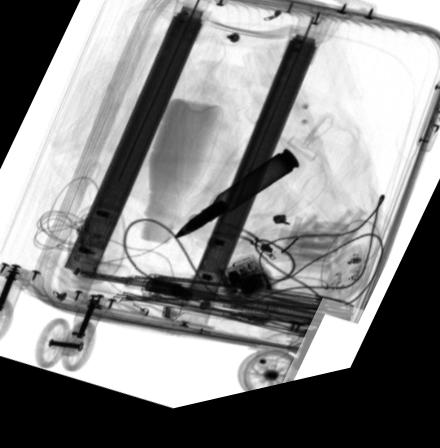Bullet: (173, 161, 299, 247)
